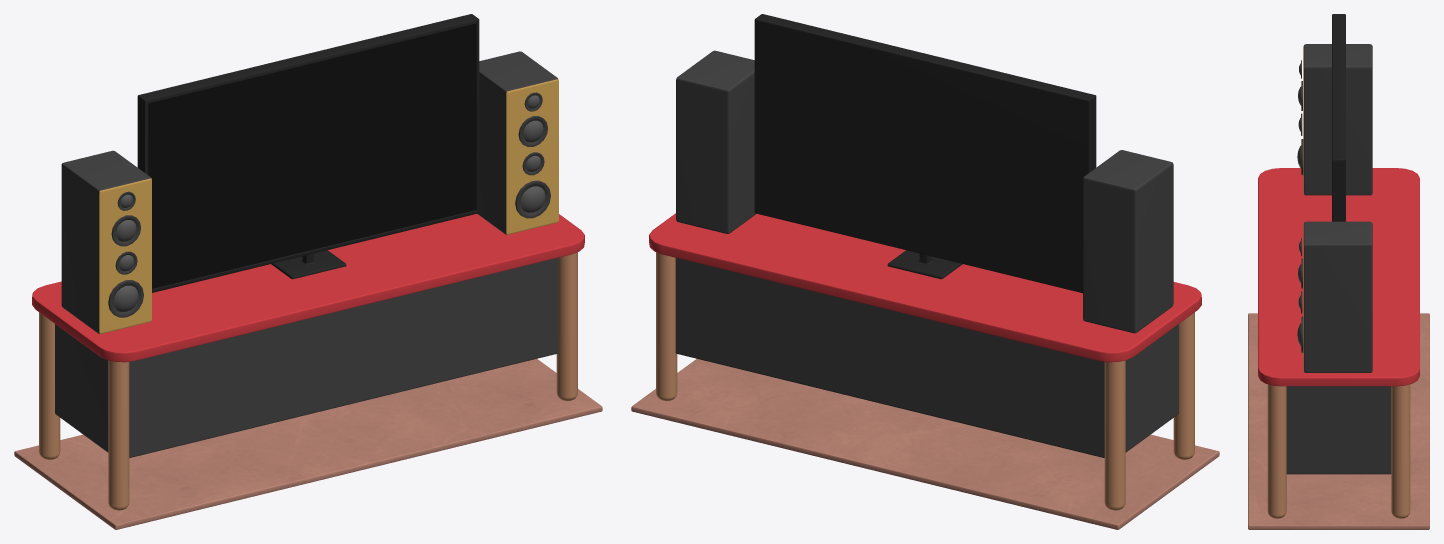
The model's file is Tv_Lvl_4.fbx.
3 views of the same model, side by side, from view 1: azimuth 30°, elevation 25°; view 2: azimuth 150°, elevation 25°; view 3: azimuth 270°, elevation 25° (orthographic). The views are drawn at different scales.
Visible parts, largest first — view 1: Table_M1, Tv_M, Base_Matte_M, Spekars_M_4, Spekars_M_6; view 2: Table_M1, Tv_M, Base_Matte_M, Spekars_M_4, Spekars_M_6; view 3: Table_M1, Base_Matte_M, Spekars_M_6, Spekars_M_4, Tv_M.
Boxes of the visible parts, bbox=[...] form: Table_M1: bbox=[32, 214, 584, 510]; Tv_M: bbox=[137, 14, 479, 292]; Base_Matte_M: bbox=[14, 359, 602, 529]; Spekars_M_4: bbox=[61, 150, 151, 333]; Spekars_M_6: bbox=[477, 51, 558, 234]; Table_M1: bbox=[649, 213, 1201, 510]; Tv_M: bbox=[754, 14, 1096, 293]; Base_Matte_M: bbox=[631, 359, 1219, 529]; Spekars_M_4: bbox=[1083, 150, 1173, 333]; Spekars_M_6: bbox=[676, 50, 756, 233]; Table_M1: bbox=[1258, 168, 1419, 518]; Base_Matte_M: bbox=[1248, 313, 1429, 529]; Spekars_M_6: bbox=[1297, 221, 1372, 372]; Spekars_M_4: bbox=[1297, 44, 1372, 195]; Tv_M: bbox=[1332, 14, 1345, 221].
Size of the model in its own units: 3.07 by 2.27 by 1.11.
Materials: 1 (1 with a texture image).
